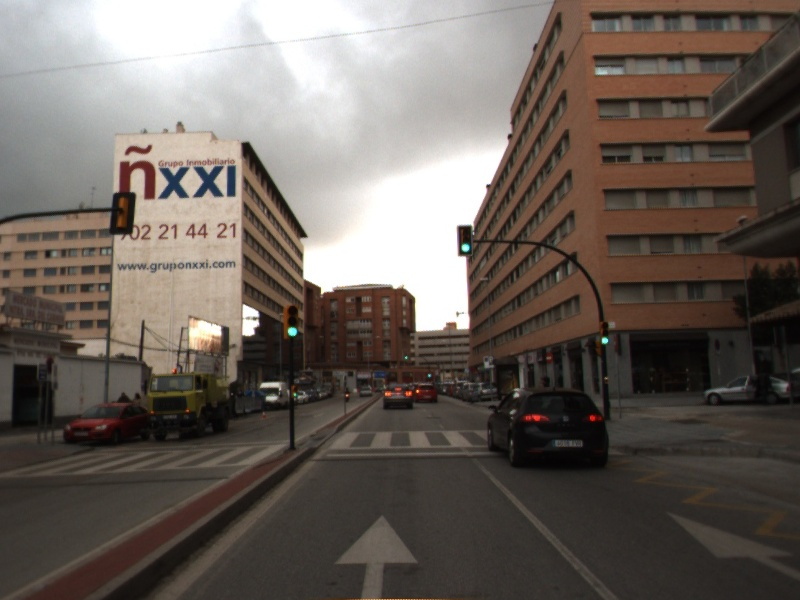STRAIGHT: (663, 507, 800, 583), (330, 510, 421, 600)
